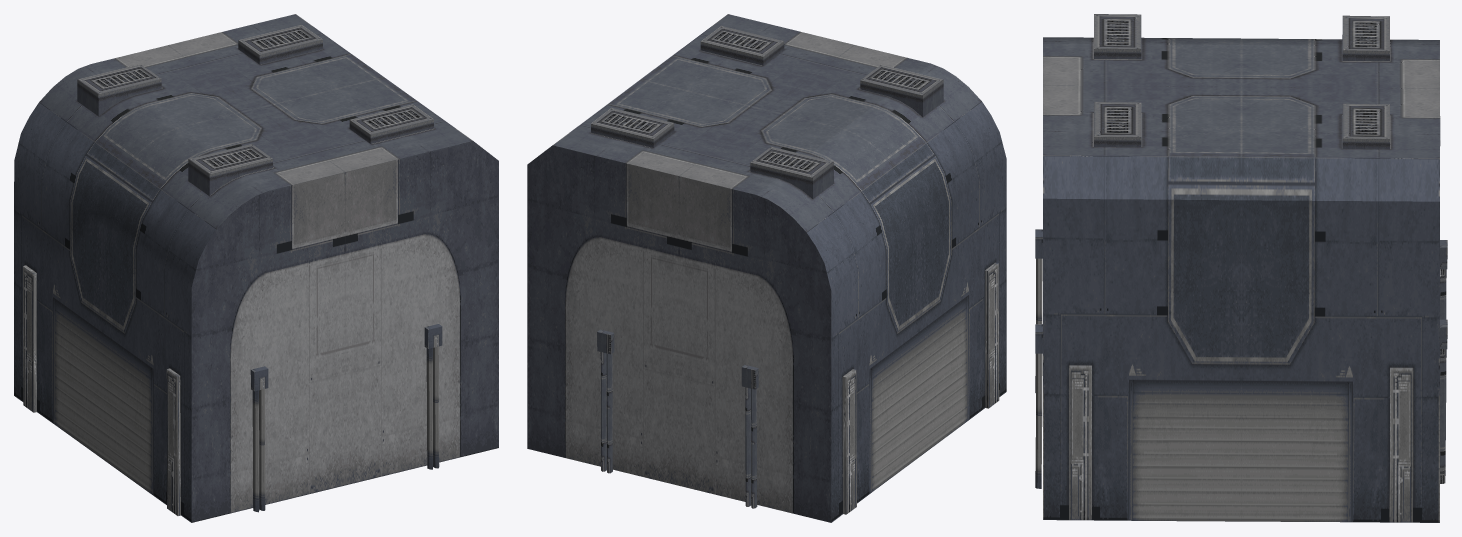
Rendered from Pod.fbx.
The picture shows the model from 3 angles, left to right: view 1: azimuth 30°, elevation 25°; view 2: azimuth 150°, elevation 25°; view 3: azimuth 270°, elevation 25°; orthographic projection. The views are drawn at different scales.
Visible parts, largest first — view 1: polySurface10402; view 2: polySurface10402; view 3: polySurface10402.
Boxes of the visible parts, bbox=[...] form: polySurface10402: bbox=[14, 14, 498, 522]; polySurface10402: bbox=[527, 14, 1006, 522]; polySurface10402: bbox=[1035, 14, 1447, 522].
Bounding box in the file's own units: 1.01 × 1.02 × 1.04.
